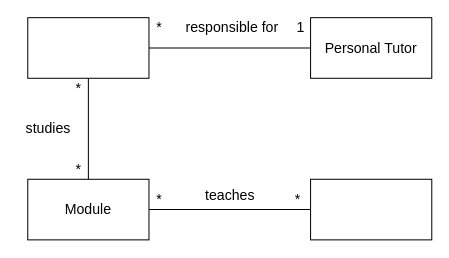
Some shapes in this 449 by 258 pixel diagram are drawn without their labels. The centre of each missing label's shape, as x and y in pixels:
Student: point 88,47
Tutor: point 371,209
